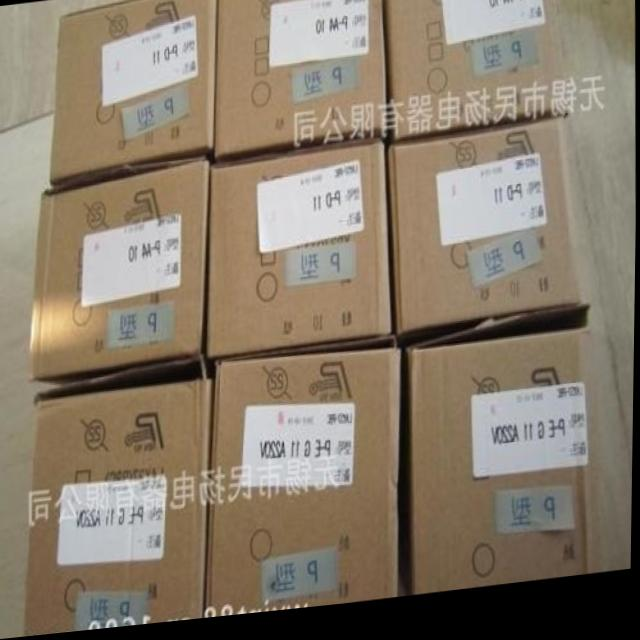box: (208, 359, 402, 622), (407, 340, 600, 602), (22, 383, 214, 638), (388, 129, 592, 343), (28, 162, 211, 386), (209, 147, 392, 364), (49, 0, 216, 189), (214, 0, 387, 165), (383, 0, 569, 150)
